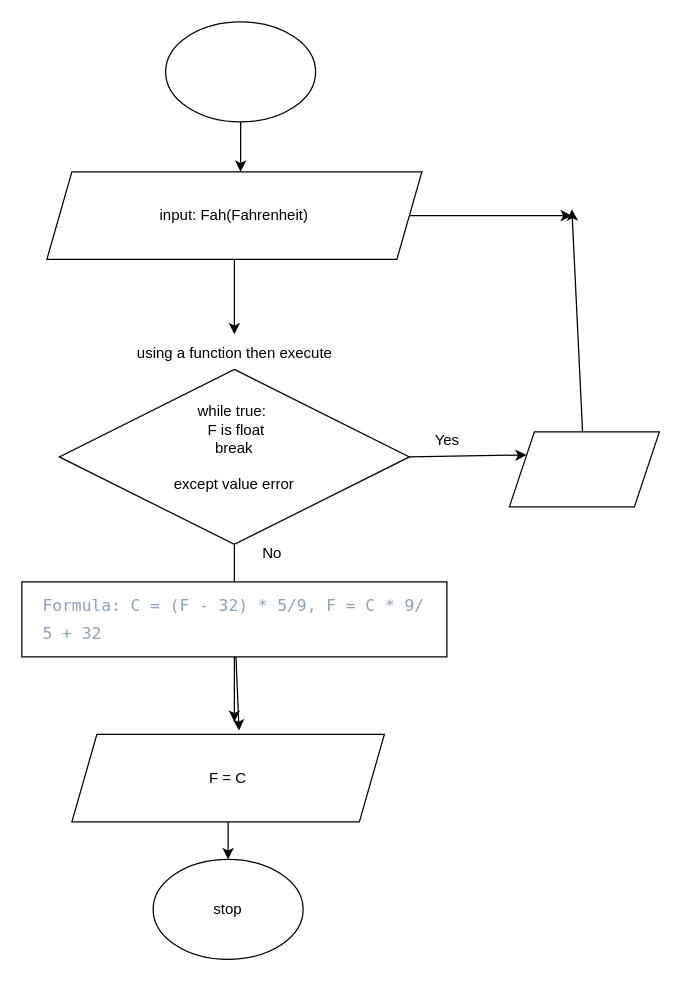
This 681x981 diagram has some shape labels left out. The box of each missing label's shape, as (x1, y1, x2, y2) in pixels:
Invalid input(ValueError): (508, 431, 659, 507)
start: (164, 21, 316, 122)
